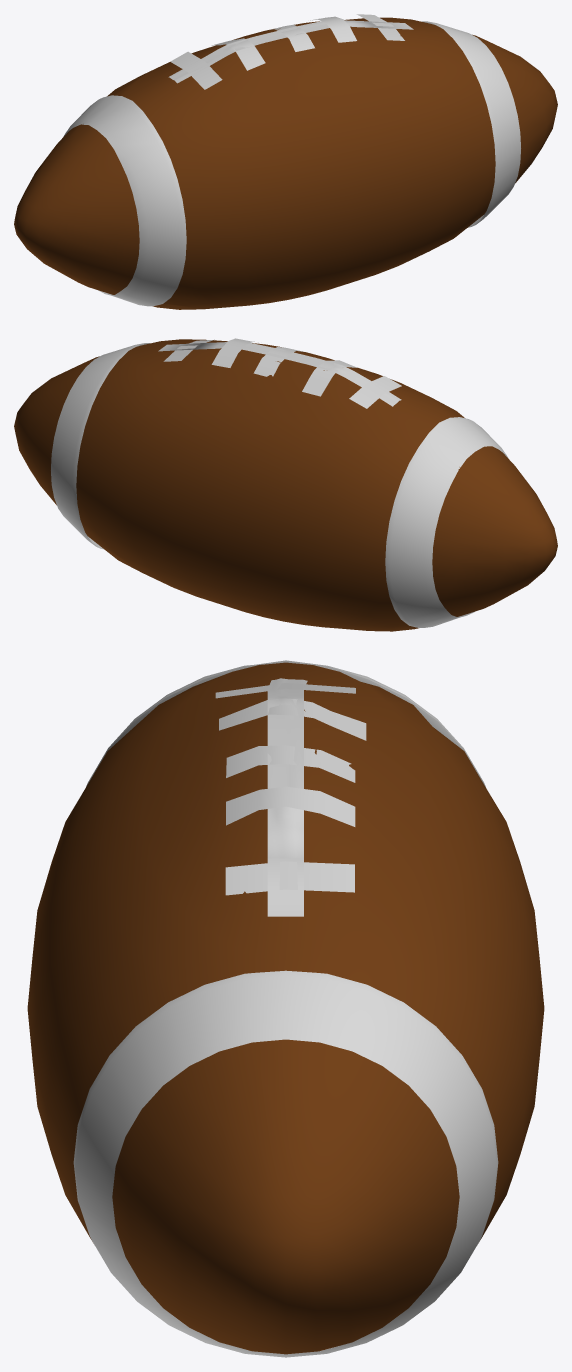
File: footballsingle2.fbx
The picture shows the model from 3 angles, top to bottom: view 1: azimuth 30°, elevation 25°; view 2: azimuth 150°, elevation 25°; view 3: azimuth 270°, elevation 25°; orthographic projection. The views are drawn at different scales.
Parts seen in each view (by area): view 1: Football; view 2: Football; view 3: Football.
Part boxes in pixels (<box>): Football: <box>14,14,557,309</box>; Football: <box>14,338,557,631</box>; Football: <box>27,660,544,1357</box>.
Bounding box in the file's own units: 1.32 × 0.6022 × 0.55.
